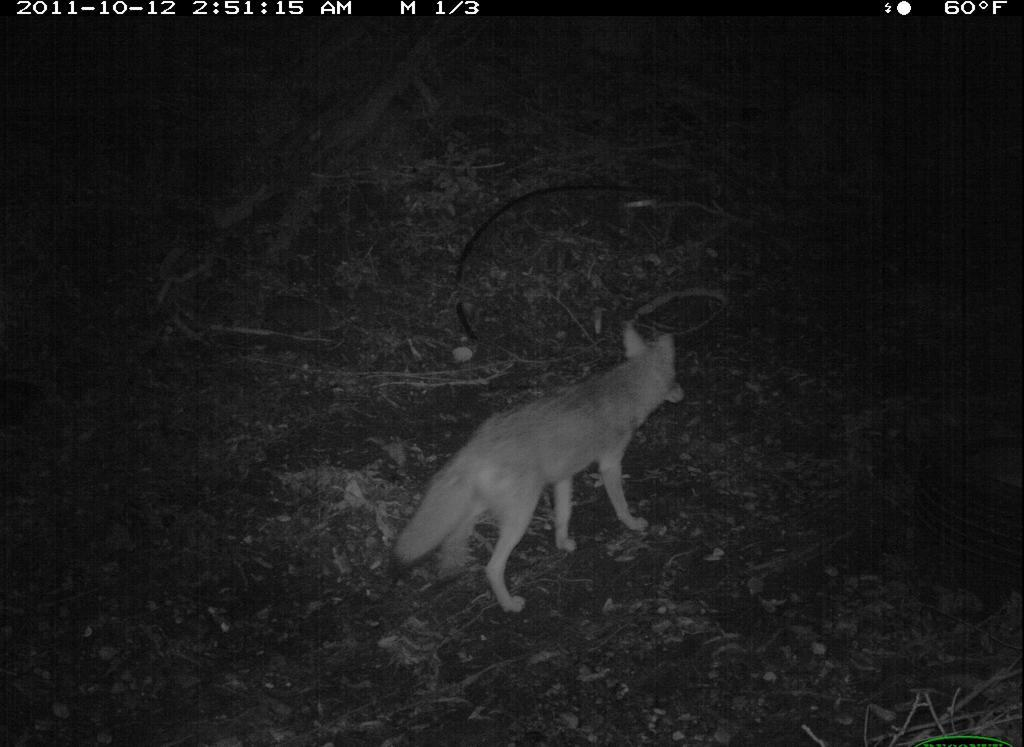coyote: (381, 328, 720, 619)
